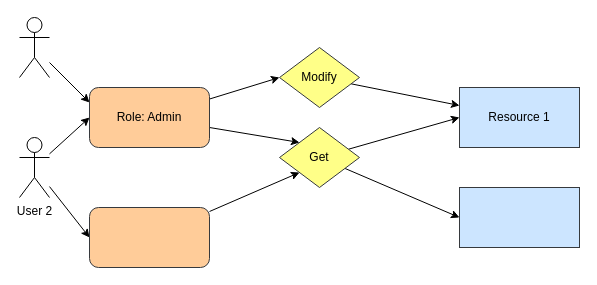
Image size: 597x285. Some labels were removed from this diagram. The centre of each missing label's shape, as x and y in pixels:
Resource 2: (519,217)
Role: Viewer: (149,237)
User 1: (34,47)
